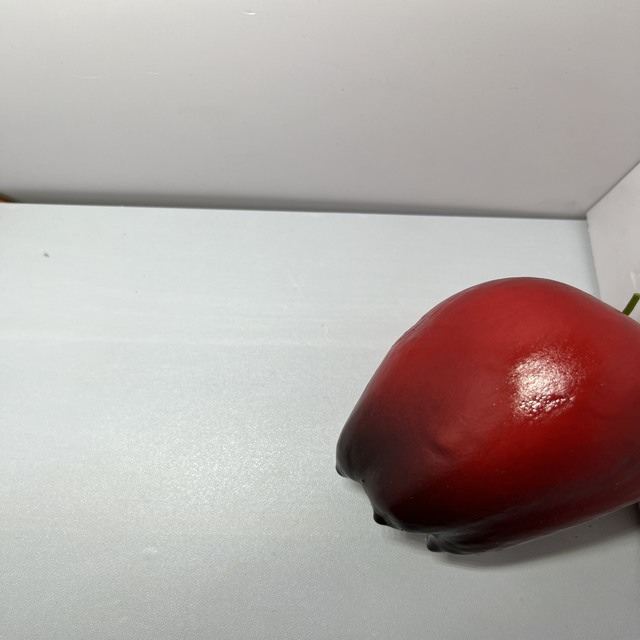Tao: (330, 268, 638, 564)
